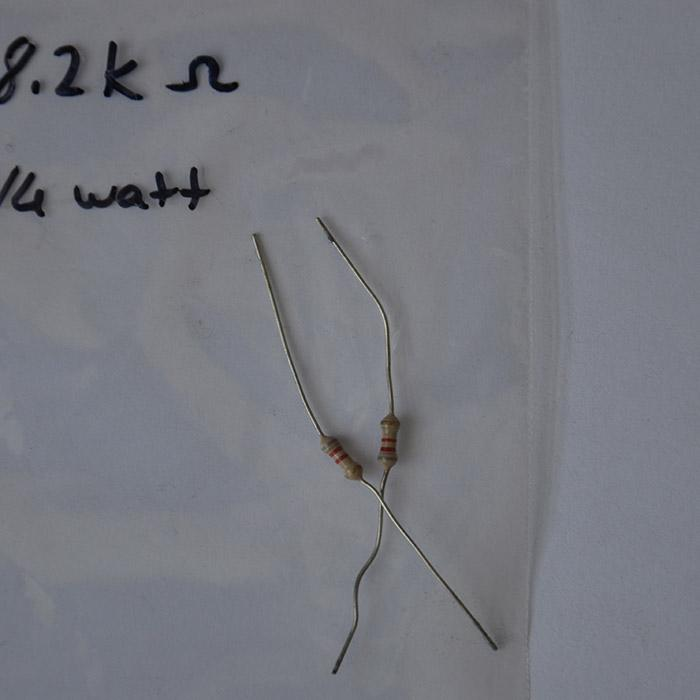resistor: (319, 434, 363, 483), (376, 413, 400, 469)
